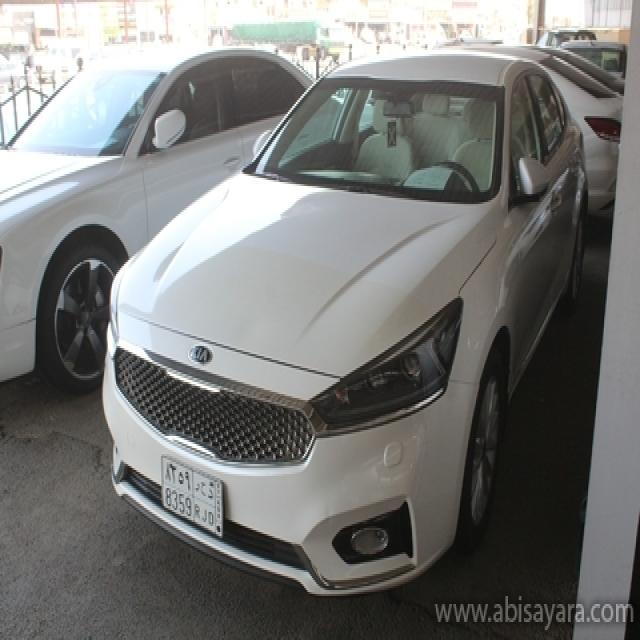license_plate: (160, 454, 227, 540)
